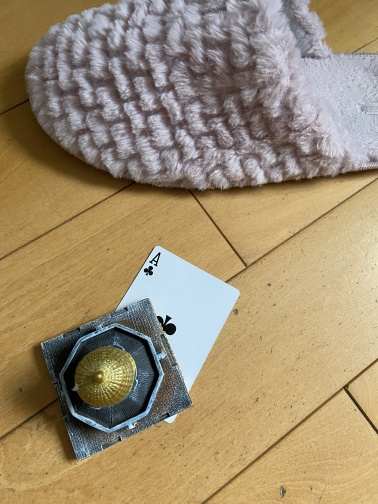ace: (83, 244, 242, 426)
